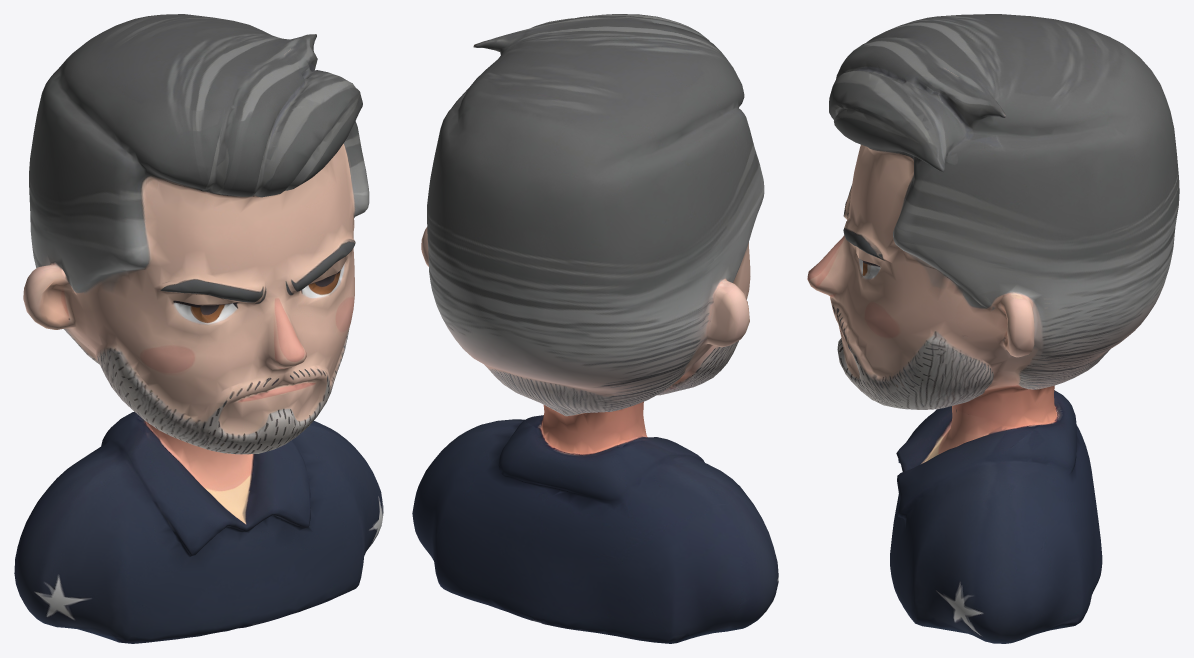
The model's file is ugur.glb.
3 renders of one model, left to right at view 1: azimuth 30°, elevation 25°; view 2: azimuth 150°, elevation 25°; view 3: azimuth 270°, elevation 25°, orthographic.
Parts seen in each view (by area): view 1: Object_4; view 2: Object_4; view 3: Object_4.
Boxes of the visible parts, x1,y1,x2,y2 form: Object_4: [14, 14, 383, 643]; Object_4: [412, 14, 778, 643]; Object_4: [807, 14, 1179, 643].
Bounding box in the file's own units: 1.29 × 1.91 × 1.2.
1 material, 1 textured.
